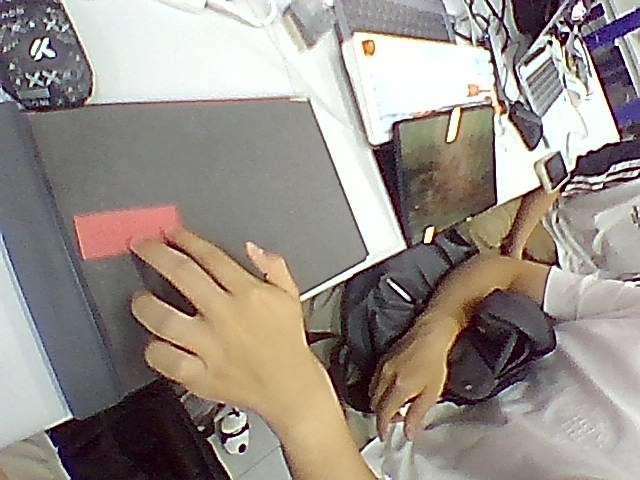card: (73, 205, 180, 259)
